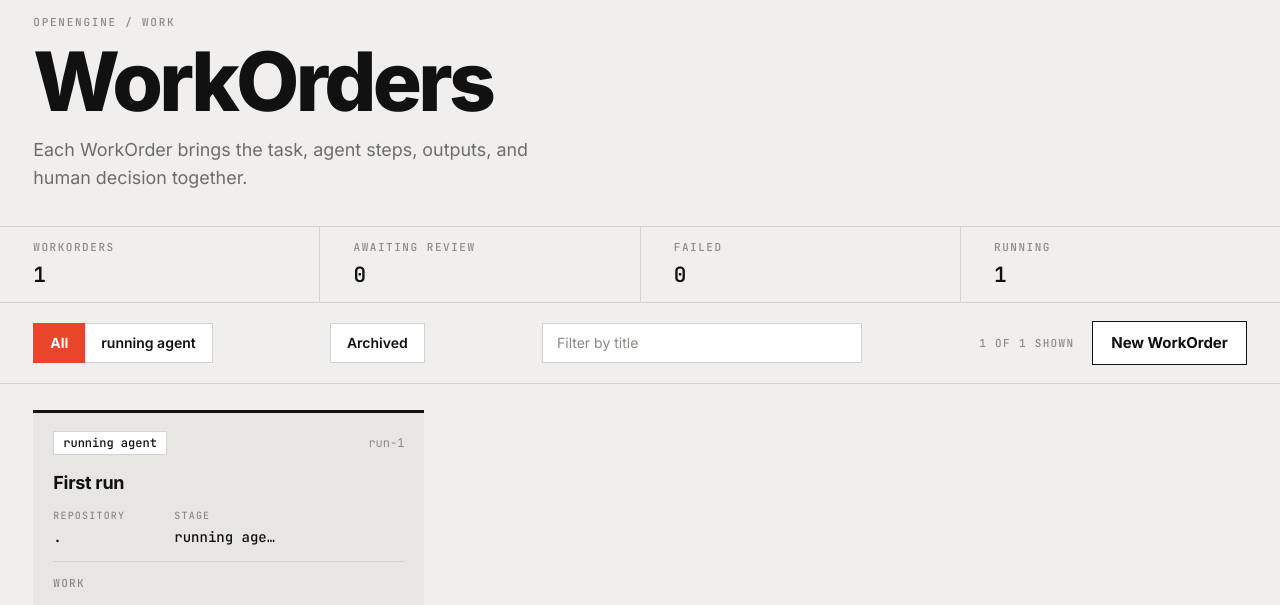
Scenario: RunsPage › keeps accepted WorkOrders out of the list until the archive is asked for
Check: the heading "Second run" is not shown
Check: the text "1 of 1 shown" is shown, box top-left (979, 335), bottom-right (1074, 351)
Click the button "Archived".
click(377, 343)  # box top-left (330, 323), bottom-right (425, 363)
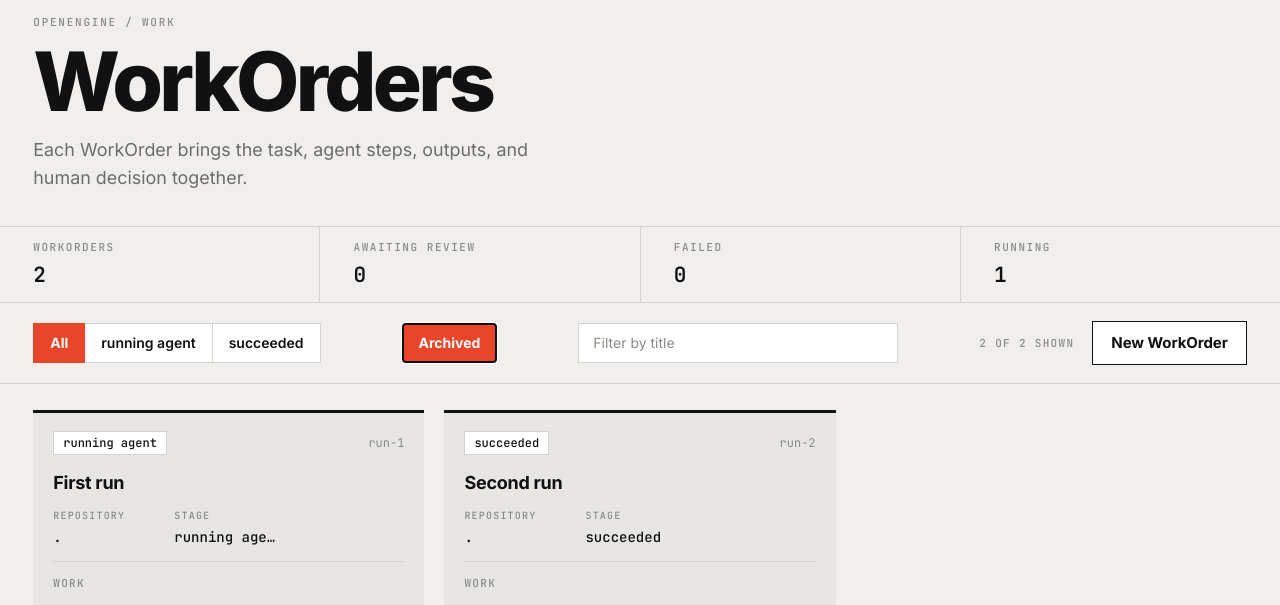
Check: the heading "Second run" is shown, box top-left (464, 472), bottom-right (562, 493)
Check: the text "2 of 2 shown" is shown, box top-left (979, 335), bottom-right (1074, 351)
Click the button "succeeded".
click(267, 343)  # box top-left (213, 323), bottom-right (321, 363)
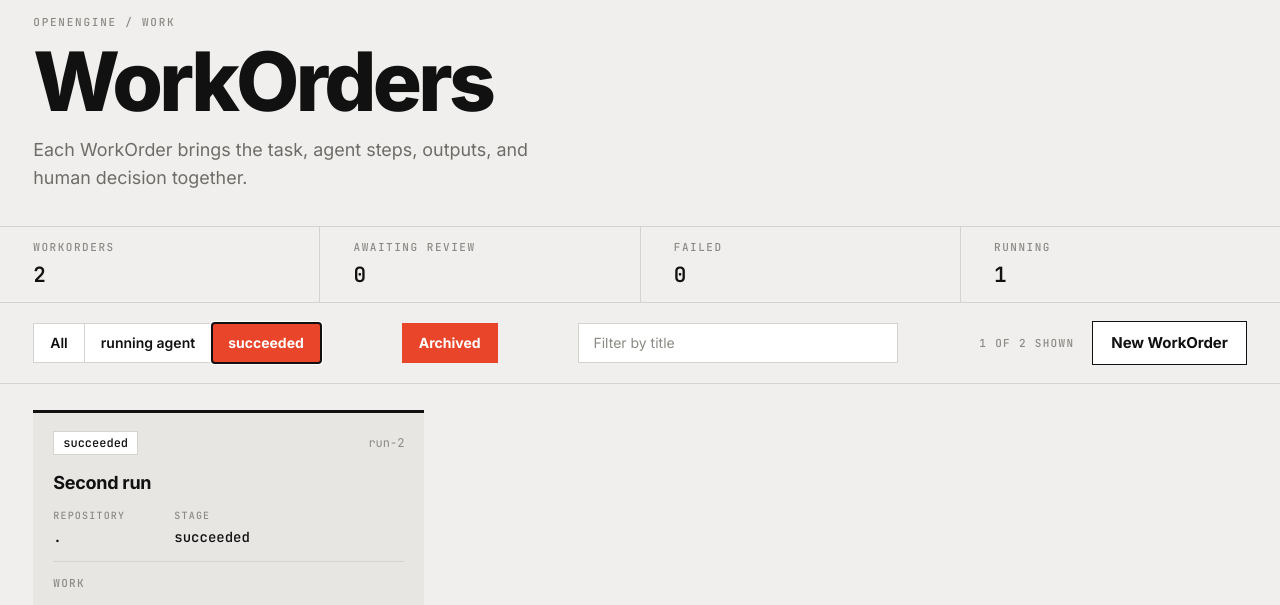
Click the button "Archived".
click(450, 343)  # box top-left (402, 323), bottom-right (498, 363)
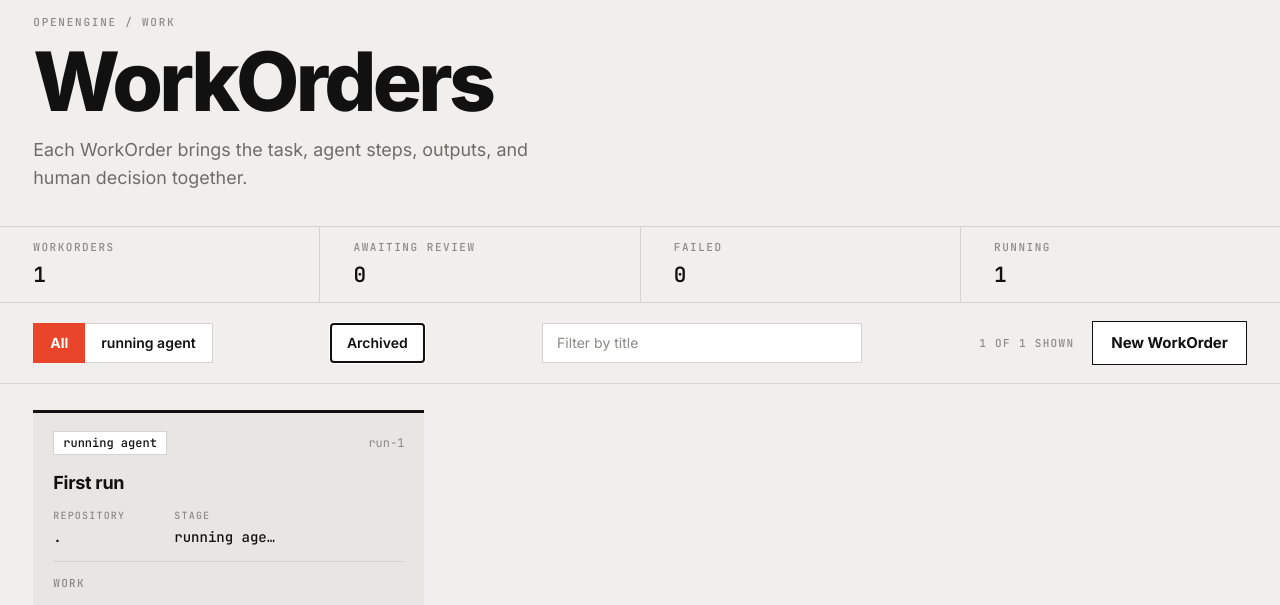
Check: the heading "First run" is shown, box top-left (53, 472), bottom-right (124, 493)
